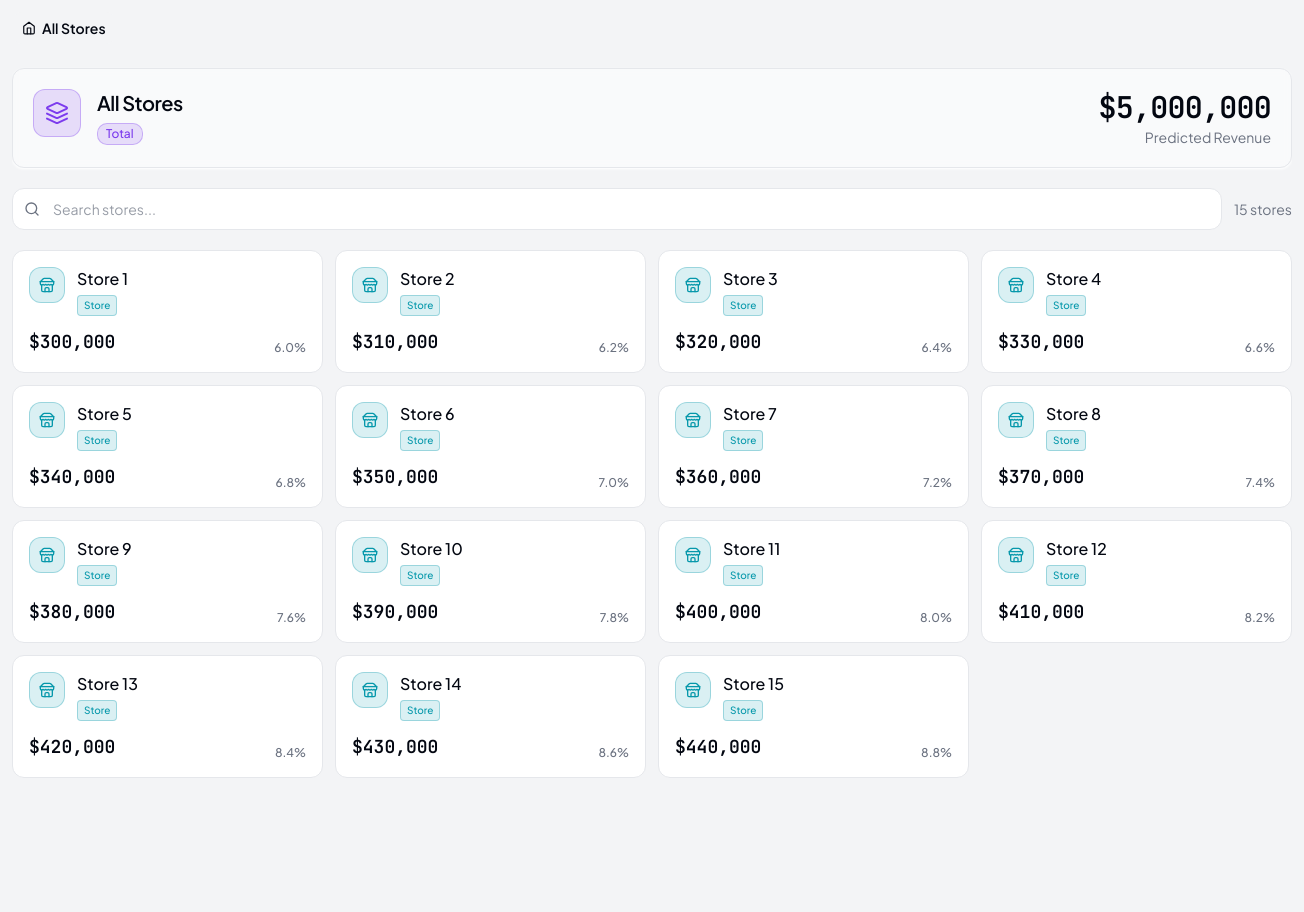
Scenario: HierarchyDrilldown › Search Functionality › filters stores based on search query
The width and height of the screenshot is (1304, 912).
Type "Store 1" into the field with placeholder "Search stores..." at (617, 209), box [12,188,1222,230]
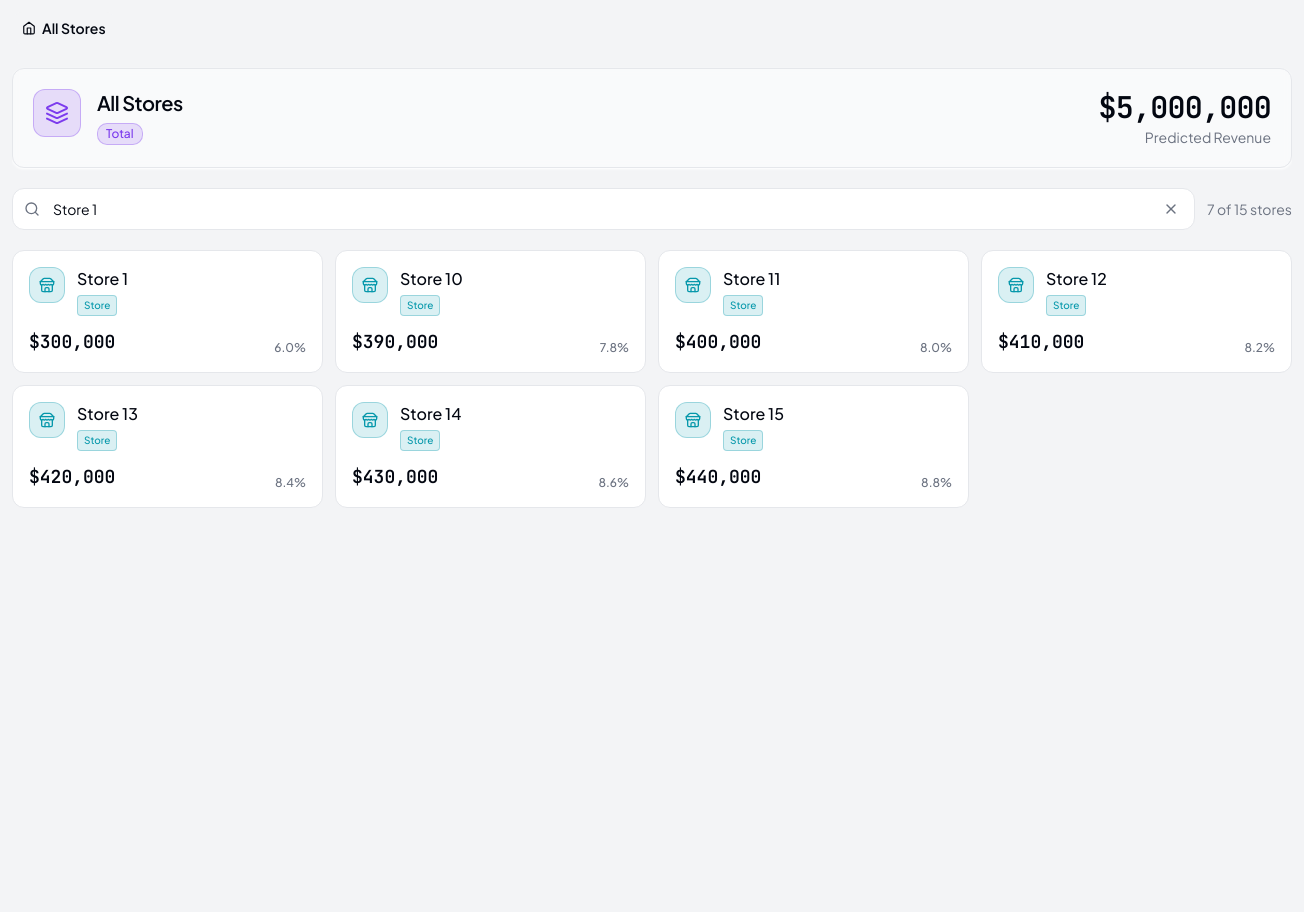
Expected: the text "Store 1" is shown, [77,268,128,289]
Expected: the button "Store 2" is gone
